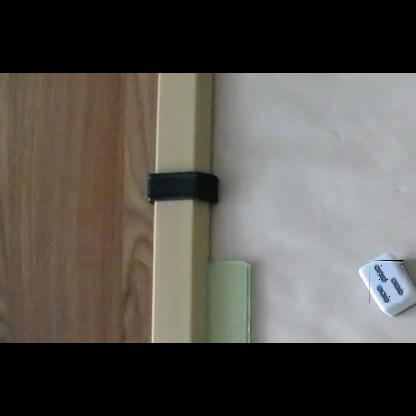3s: (369, 260, 403, 303)
